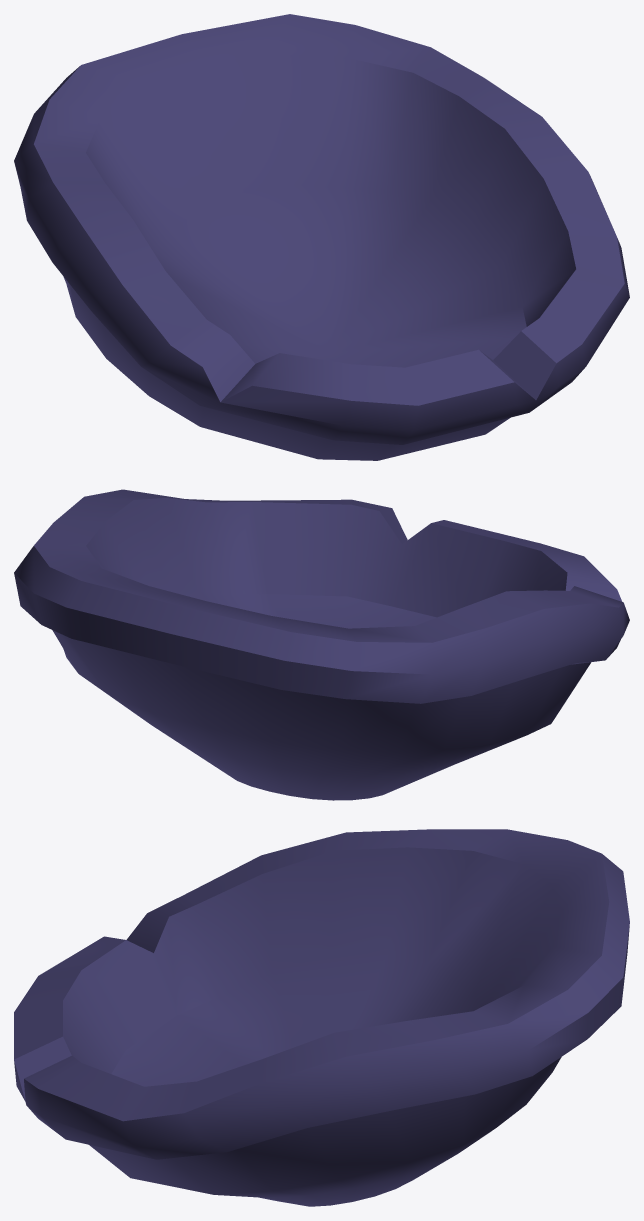
File: skeleton_mage_cowl.glb
3 views of the same model, one above another, from view 1: azimuth 30°, elevation 25°; view 2: azimuth 150°, elevation 25°; view 3: azimuth 270°, elevation 25° (orthographic).
Visible parts, largest first — view 1: skeleton_mage_cowl; view 2: skeleton_mage_cowl; view 3: skeleton_mage_cowl.
Part boxes in pixels (x1,y1,x2,y2): skeleton_mage_cowl: [14, 14, 629, 460]; skeleton_mage_cowl: [14, 489, 629, 800]; skeleton_mage_cowl: [14, 829, 629, 1206].
Bounding box in the file's own units: 0.3267 × 0.1803 × 0.3539.
